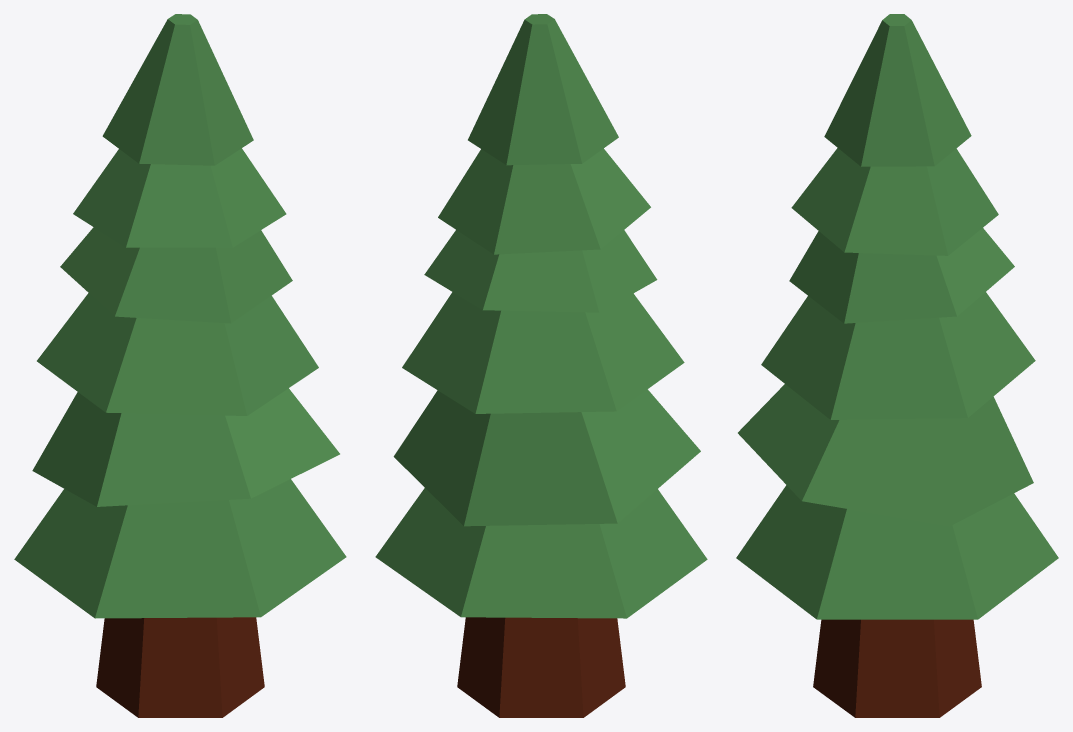
Rendered from middelboom.fbx.
The picture shows the model from 3 angles, left to right: view 1: azimuth 30°, elevation 25°; view 2: azimuth 150°, elevation 25°; view 3: azimuth 270°, elevation 25°; orthographic projection.
Visible parts, largest first — view 1: Cylinder; view 2: Cylinder; view 3: Cylinder.
Boxes of the visible parts, bbox=[...] form: Cylinder: bbox=[14, 14, 346, 717]; Cylinder: bbox=[375, 14, 707, 717]; Cylinder: bbox=[736, 14, 1058, 717].
Size of the model in its own units: 345 by 874 by 382.
